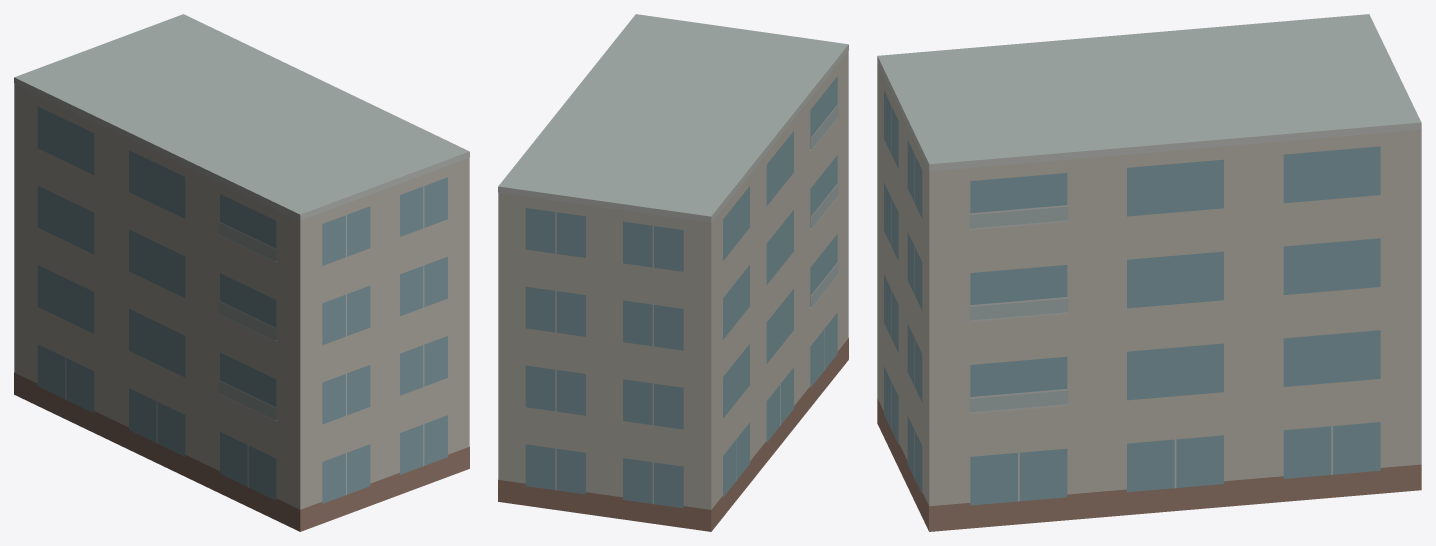
Rendered from survey-upis-33024673.glb.
3 renders of one model, left to right at view 1: azimuth 30°, elevation 25°; view 2: azimuth 150°, elevation 25°; view 3: azimuth 270°, elevation 25°, orthographic. The views are drawn at different scales.
Visible parts, largest first — view 1: survey-upis-33024673.tmp; view 2: survey-upis-33024673.tmp; view 3: survey-upis-33024673.tmp.
Part boxes in pixels (box(x1,y1,x2,y2)): survey-upis-33024673.tmp: box(14, 14, 469, 531); survey-upis-33024673.tmp: box(498, 14, 848, 531); survey-upis-33024673.tmp: box(877, 14, 1421, 531).
Size of the model in its own units: 11.1 by 12.65 by 16.98.
